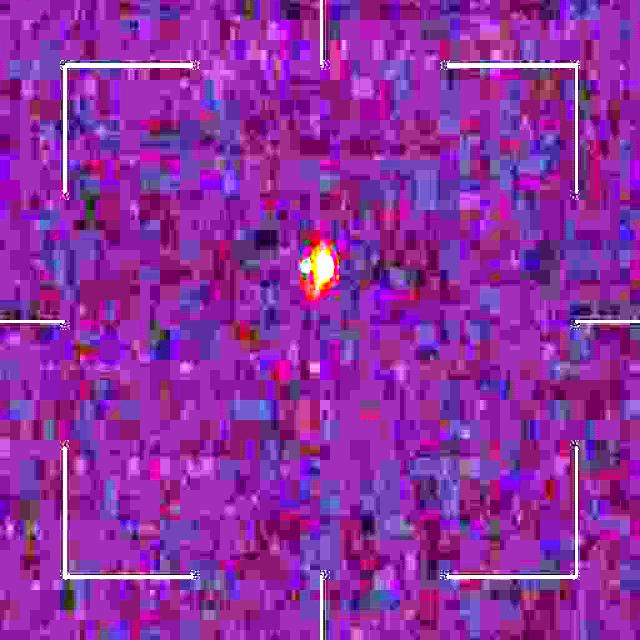bird: (299, 246, 338, 292)
